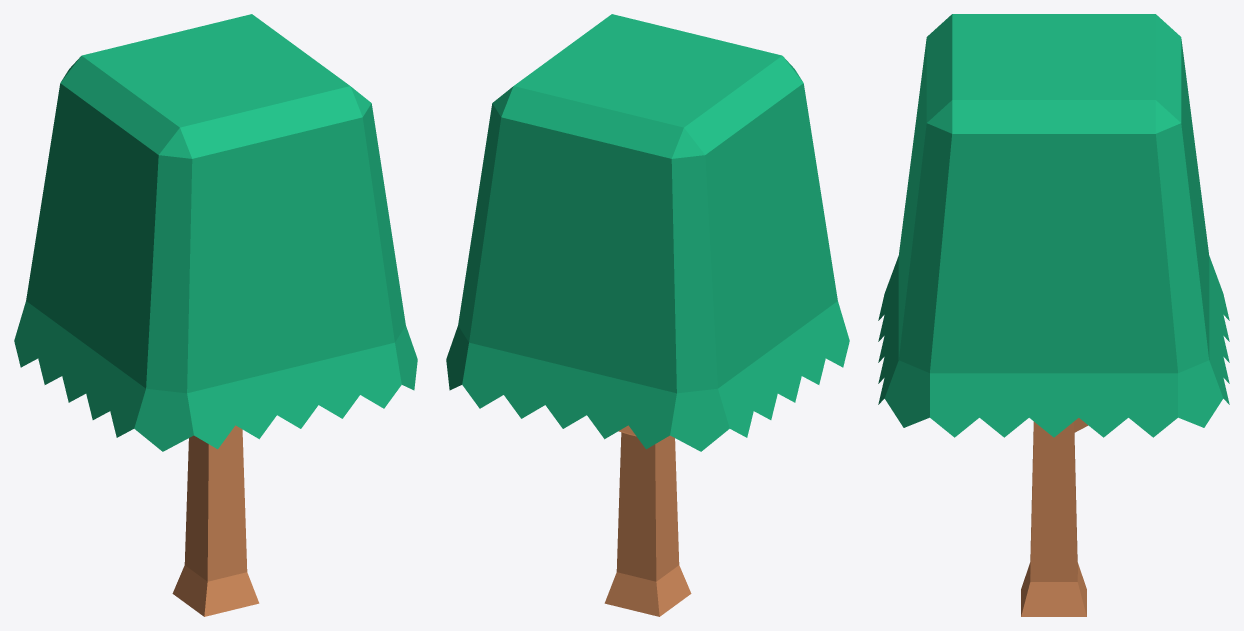
Rendered from tree.fbx.
3 views of the same model, side by side, from view 1: azimuth 30°, elevation 25°; view 2: azimuth 150°, elevation 25°; view 3: azimuth 270°, elevation 25° (orthographic). The views are drawn at different scales.
Visible parts, largest first — view 1: tree; view 2: tree; view 3: tree.
Boxes of the visible parts, x1=… form: tree: x1=14, y1=14, x2=417, y2=616; tree: x1=446, y1=14, x2=849, y2=616; tree: x1=878, y1=14, x2=1229, y2=616.
Size of the model in its own units: 11.33 by 19.41 by 11.33.
